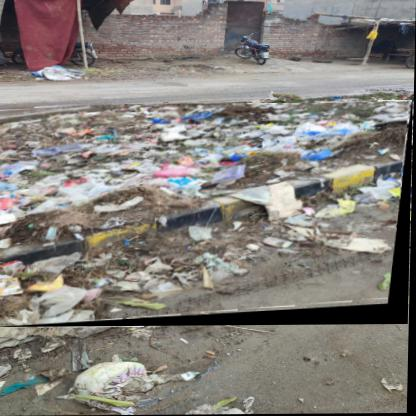Garbage: (1, 104, 415, 329)
